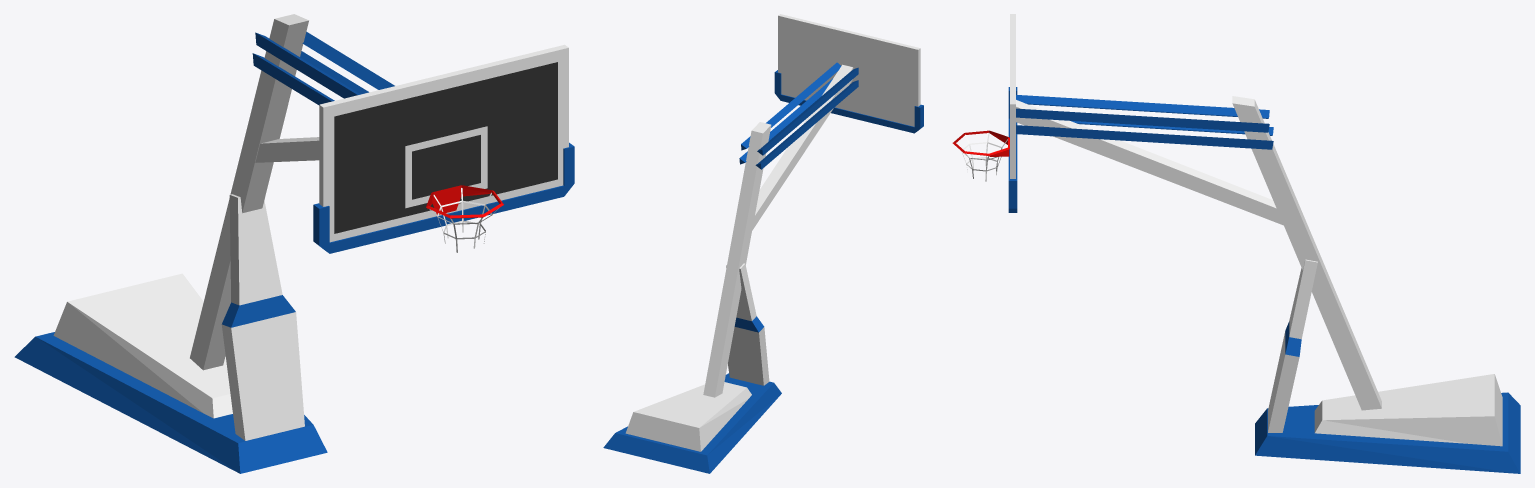
Rendered from Basket.fbx.
3 views of the same model, side by side, from view 1: azimuth 30°, elevation 25°; view 2: azimuth 150°, elevation 25°; view 3: azimuth 270°, elevation 25° (orthographic). The views are drawn at different scales.
Parts seen in each view (by area): view 1: Basket; view 2: Basket; view 3: Basket.
Part boxes in pixels (left/top/right/bottom): Basket: left=14, top=14, right=574, bottom=473; Basket: left=603, top=14, right=923, bottom=473; Basket: left=952, top=14, right=1520, bottom=473.
Size of the model in its own units: 180 by 340 by 460.
